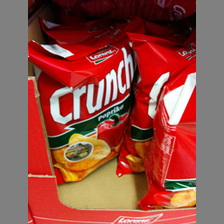chips: (29, 41, 136, 186)
